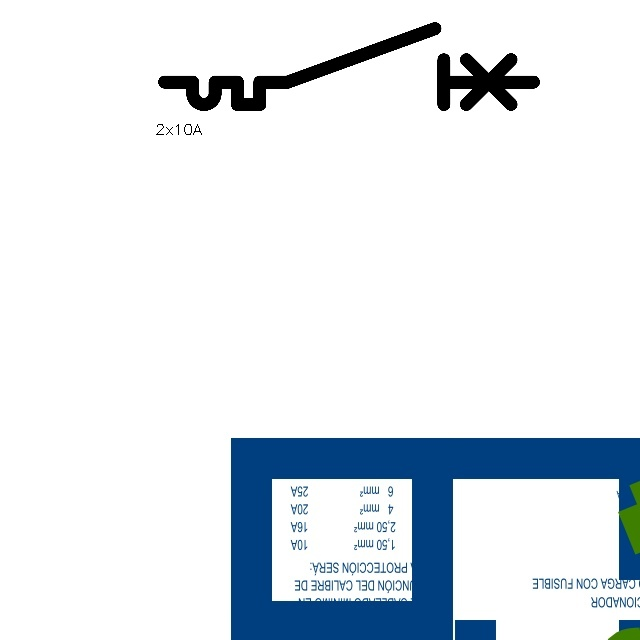interruptor_termomagnetico: (155, 19, 543, 114)
